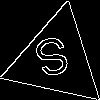S: (31, 34, 76, 88)
